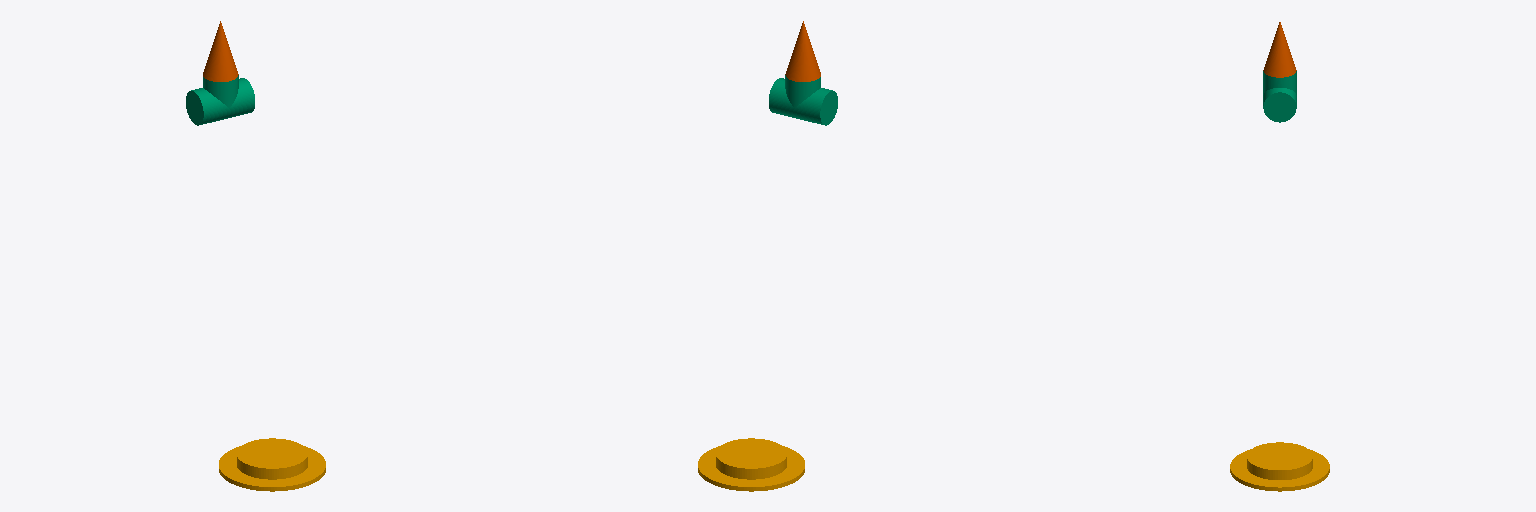
URDF robot description (simple_arm):
<?xml version='1.0' encoding='utf-8'?>
<robot name="simple_arm">
    <link name="base_link">
        <inertial>
            <origin xyz="0.0 2.6452956415031212e-18 0.002842105263157895" rpy="0.0 0.0 0.0" />
            <mass value="0.052713961231828206" />
            <inertia ixx="4.947960317307337e-06" iyy="4.947960317307622e-06" izz="9.441694700898043e-06" ixy="-1.1155520951433573e-20" iyz="3.9631456011671904e-22" ixz="1.3944401189291966e-21" />
        </inertial>
        <visual name="base_link_visual">
            <origin xyz="0.0 0.0 0.0" rpy="0.0 0.0 0.0" />
            <geometry>
                <mesh filename="meshes/base_link.stl" scale="0.001 0.001 0.001" />
            </geometry>
        </visual>
        <collision name="base_link_collision">
            <origin xyz="0.0 0.0 0.0" rpy="0.0 0.0 0.0" />
            <geometry>
                <mesh filename="meshes/base_link.stl" scale="0.001 0.001 0.001" />
            </geometry>
        </collision>
    </link>
    <link name="Component3">
        <inertial>
            <origin xyz="0.026252715680868344 -1.1199195242150764e-18 0.0125" rpy="0.0 -0.0 0.0" />
            <mass value="0.12451252869321346" />
            <inertia ixx="6.171806333751483e-06" iyy="6.049735288328939e-05" izz="5.7925706597316694e-05" ixy="1.6558597726848904e-20" iyz="7.669420654110582e-21" ixz="0.0" />
        </inertial>
        <visual name="Component3_visual">
            <origin xyz="-0.055 0.0 -0.0125" rpy="-0.0 1.5707963267948966 0" />
            <geometry>
                <mesh filename="meshes/Component3.stl" scale="0.001 0.001 0.001" />
            </geometry>
        </visual>
        <collision name="Component3_collision">
            <origin xyz="-0.055 0.0 -0.0125" rpy="-0.0 1.5707963267948966 0" />
            <geometry>
                <mesh filename="meshes/Component3.stl" scale="0.001 0.001 0.001" />
            </geometry>
        </collision>
    </link>
    <link name="Component4">
        <inertial>
            <origin xyz="0.0018318112736064051 -1.0856573567400865e-18 -0.0125" rpy="0.0 -0.0 0.0" />
            <mass value="0.04318910647877785" />
            <inertia ixx="2.549823749212775e-06" iyy="3.0310698773325633e-06" izz="1.7456155290845616e-06" ixy="5.810697767491637e-21" iyz="6.972200594645983e-22" ixz="0.0" />
        </inertial>
        <visual name="Component4_visual">
            <origin xyz="-0.1075 6.986054659427653e-18 -0.0125" rpy="-3.141592653589793 -1.5707963267948966 0" />
            <geometry>
                <mesh filename="meshes/Component4.stl" scale="0.001 0.001 0.001" />
            </geometry>
        </visual>
        <collision name="Component4_collision">
            <origin xyz="-0.1075 6.986054659427653e-18 -0.0125" rpy="-3.141592653589793 -1.5707963267948966 0" />
            <geometry>
                <mesh filename="meshes/Component4.stl" scale="0.001 0.001 0.001" />
            </geometry>
        </collision>
    </link>
    <link name="Component2">
        <inertial>
            <origin xyz="-8.086487216232844e-14 0.0 0.030029031087867263" rpy="0.0 -0.0 0.0" />
            <mass value="0.09567186612625579" />
            <inertia ixx="2.9047927013821996e-05" iyy="3.033338133818253e-05" izz="4.187742461399517e-06" ixy="0.0" iyz="0.0" ixz="-2.2651392298235984e-16" />
        </inertial>
        <visual name="Component2_visual">
            <origin xyz="0.0 0.0 -0.006999999999999999" rpy="0.0 -0.0 0.0" />
            <geometry>
                <mesh filename="meshes/Component2.stl" scale="0.001 0.001 0.001" />
            </geometry>
        </visual>
        <collision name="Component2_collision">
            <origin xyz="0.0 0.0 -0.006999999999999999" rpy="0.0 -0.0 0.0" />
            <geometry>
                <mesh filename="meshes/Component2.stl" scale="0.001 0.001 0.001" />
            </geometry>
        </collision>
    </link>
    <link name="Component5">
        <inertial>
            <origin xyz="0.0337530465652544 0.0 0.012499999999999992" rpy="0.0 -0.0 0.0" />
            <mass value="0.14532067128472462" />
            <inertia ixx="6.757035344137785e-06" iyy="0.0001037509093725561" izz="0.00010117926308658275" ixy="0.0" iyz="0.0" ixz="-1.379073526297535e-19" />
        </inertial>
        <visual name="Component5_visual">
            <origin xyz="-0.07 0.0 -0.0125" rpy="-0.0 1.5707963267948966 0" />
            <geometry>
                <mesh filename="meshes/Component5.stl" scale="0.001 0.001 0.001" />
            </geometry>
        </visual>
        <collision name="Component5_collision">
            <origin xyz="-0.07 0.0 -0.0125" rpy="-0.0 1.5707963267948966 0" />
            <geometry>
                <mesh filename="meshes/Component5.stl" scale="0.001 0.001 0.001" />
            </geometry>
        </collision>
    </link>
    <link name="Component6">
        <inertial>
            <origin xyz="0.0 2.3603623923676623e-17 0.006249999999999965" rpy="0.0 -0.0 0.0" />
            <mass value="0.011560079217506203" />
            <inertia ixx="3.6847752505817215e-07" iyy="3.6847752505811794e-07" izz="1.950763367954018e-07" ixy="3.089132067604919e-23" iyz="-2.627452610902178e-22" ixz="-8.465600376477065e-39" />
        </inertial>
        <visual name="Component6_visual">
            <origin xyz="0.0 -6.98605465942765e-18 -0.12" rpy="0.0 -0.0 0.0" />
            <geometry>
                <mesh filename="meshes/Component6.stl" scale="0.001 0.001 0.001" />
            </geometry>
        </visual>
        <collision name="Component6_collision">
            <origin xyz="0.0 -6.98605465942765e-18 -0.12" rpy="0.0 -0.0 0.0" />
            <geometry>
                <mesh filename="meshes/Component6.stl" scale="0.001 0.001 0.001" />
            </geometry>
        </collision>
    </link>
    <joint name="base_link_Revolute-1" type="continuous">
        <origin xyz="0.0 0.0 0.006999999999999999" rpy="0.0 -0.0 0.0" />
        <parent link="base_link" />
        <child link="Component2" />
        <axis xyz="0.0 0.0 1.0" />
    </joint>
    <joint name="Component2_Revolute-2" type="revolute">
        <origin xyz="-0.0125 0.0 0.048" rpy="-0.0 -1.5707963267948966 0" />
        <parent link="Component2" />
        <child link="Component3" />
        <axis xyz="0.0 0.0 -1.0" />
        <limit lower="-1.570796" upper="1.570796" effort="1000000" velocity="1000000" />
    </joint>
    <joint name="Component3_Revolute-3" type="revolute">
        <origin xyz="0.0525 0.0 0.0" rpy="3.141592653589793 -0.0 0.0" />
        <parent link="Component3" />
        <child link="Component5" />
        <axis xyz="0.0 0.0 1.0" />
        <limit lower="-1.570796" upper="1.570796" effort="1000000" velocity="1000000" />
    </joint>
    <joint name="Component5_Revolute-4" type="continuous">
        <origin xyz="0.0675 0.0 0.0" rpy="0.0 -0.0 0.0" />
        <parent link="Component5" />
        <child link="Component4" />
        <axis xyz="0.0 0.0 1.0" />
    </joint>
    <joint name="Component4_Revolute-5" type="continuous">
        <origin xyz="0.0125 0.0 -0.0125" rpy="3.141592653589793 -1.5707963267948966 0" />
        <parent link="Component4" />
        <child link="Component6" />
        <axis xyz="0.0 -2.4492935982947064e-16 1.0" />
    </joint>
</robot>

--- What the picture shows (computed from the rendered views, not written in the file) ---
Views: 3 orthographic renders of the robot side by side, from view 1: azimuth 30°, elevation 25°; view 2: azimuth 150°, elevation 25°; view 3: azimuth 270°, elevation 25°.
Model simple_arm with 6 links and 5 joints (2 revolute, 3 continuous), rooted at base_link, posed every joint at zero.
Links seen in each view (by area): view 1: base_link, Component4, Component6; view 2: base_link, Component4, Component6; view 3: base_link, Component4, Component6.
Boxes of the visible links, left/top/right/bottom form: base_link: left=219, top=438, right=325, bottom=491; Component4: left=186, top=75, right=254, bottom=125; Component6: left=203, top=21, right=238, bottom=81; base_link: left=698, top=438, right=804, bottom=491; Component4: left=769, top=75, right=837, bottom=125; Component6: left=785, top=21, right=820, bottom=81; base_link: left=1230, top=442, right=1329, bottom=491; Component4: left=1263, top=71, right=1296, bottom=122; Component6: left=1263, top=22, right=1296, bottom=77.
Bounding box of the posed robot: 0.06 × 0.045 × 0.2125 m (x, y, z).
3 mesh visuals loaded from 6 distinct referenced files (3 binary STL); not drawn: 3 (reference not matched to a file when rendering).
